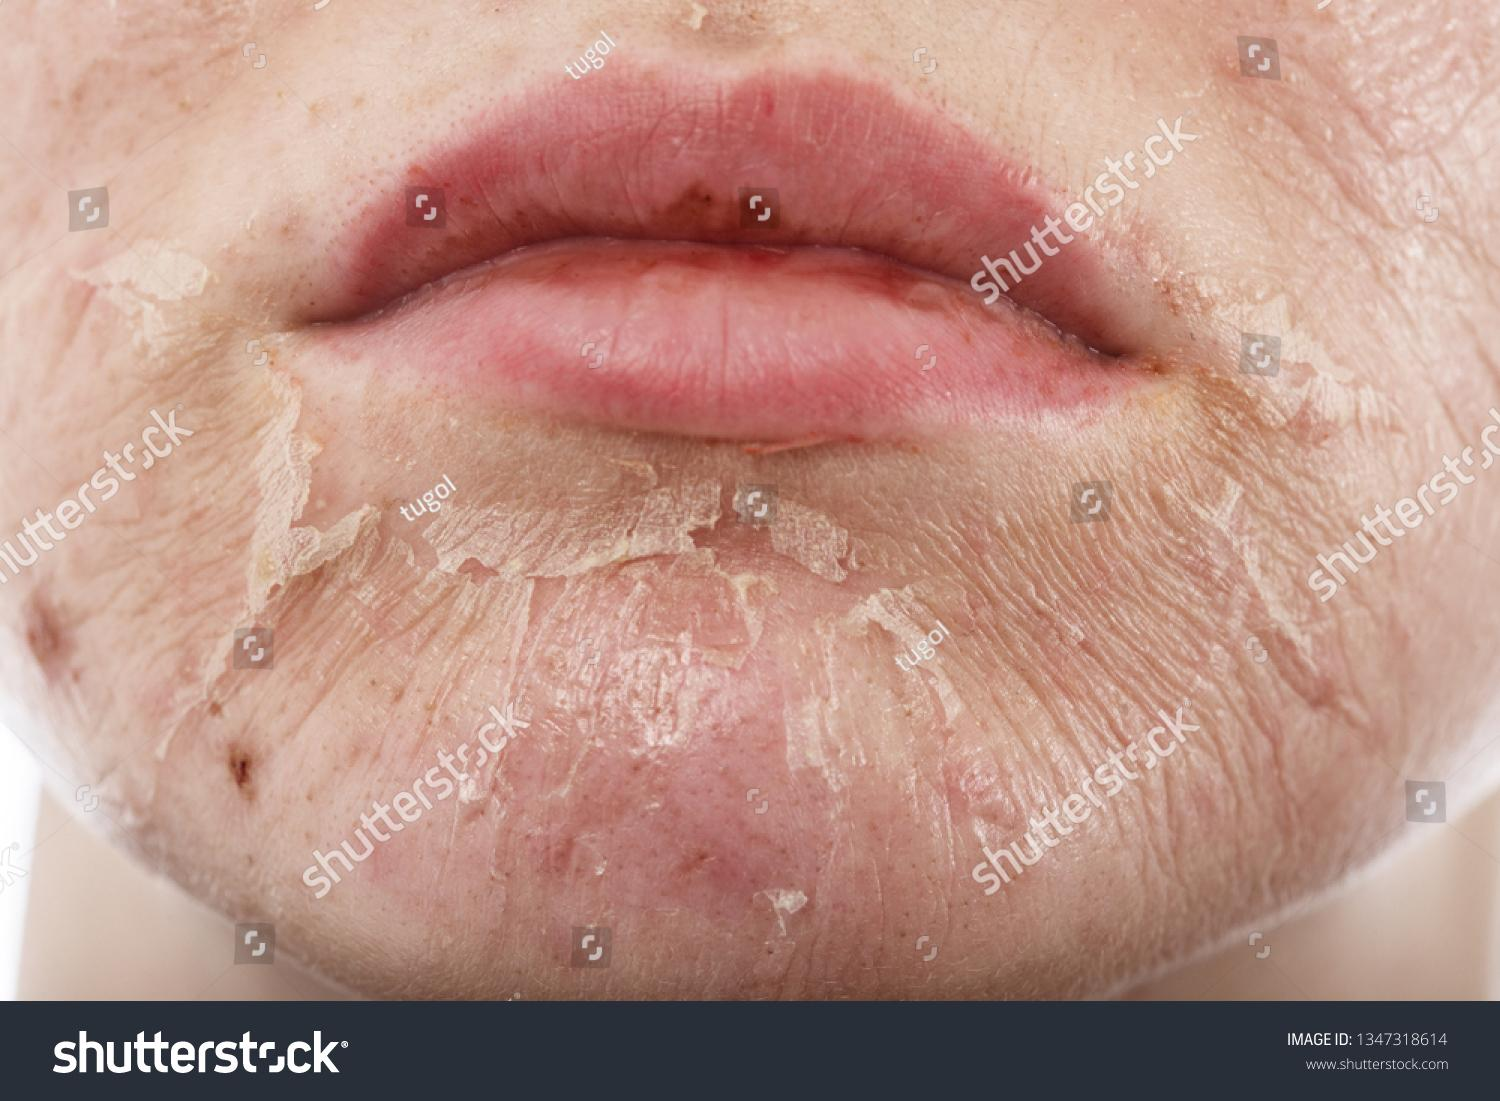burned-skin: (10, 0, 1494, 1010)
